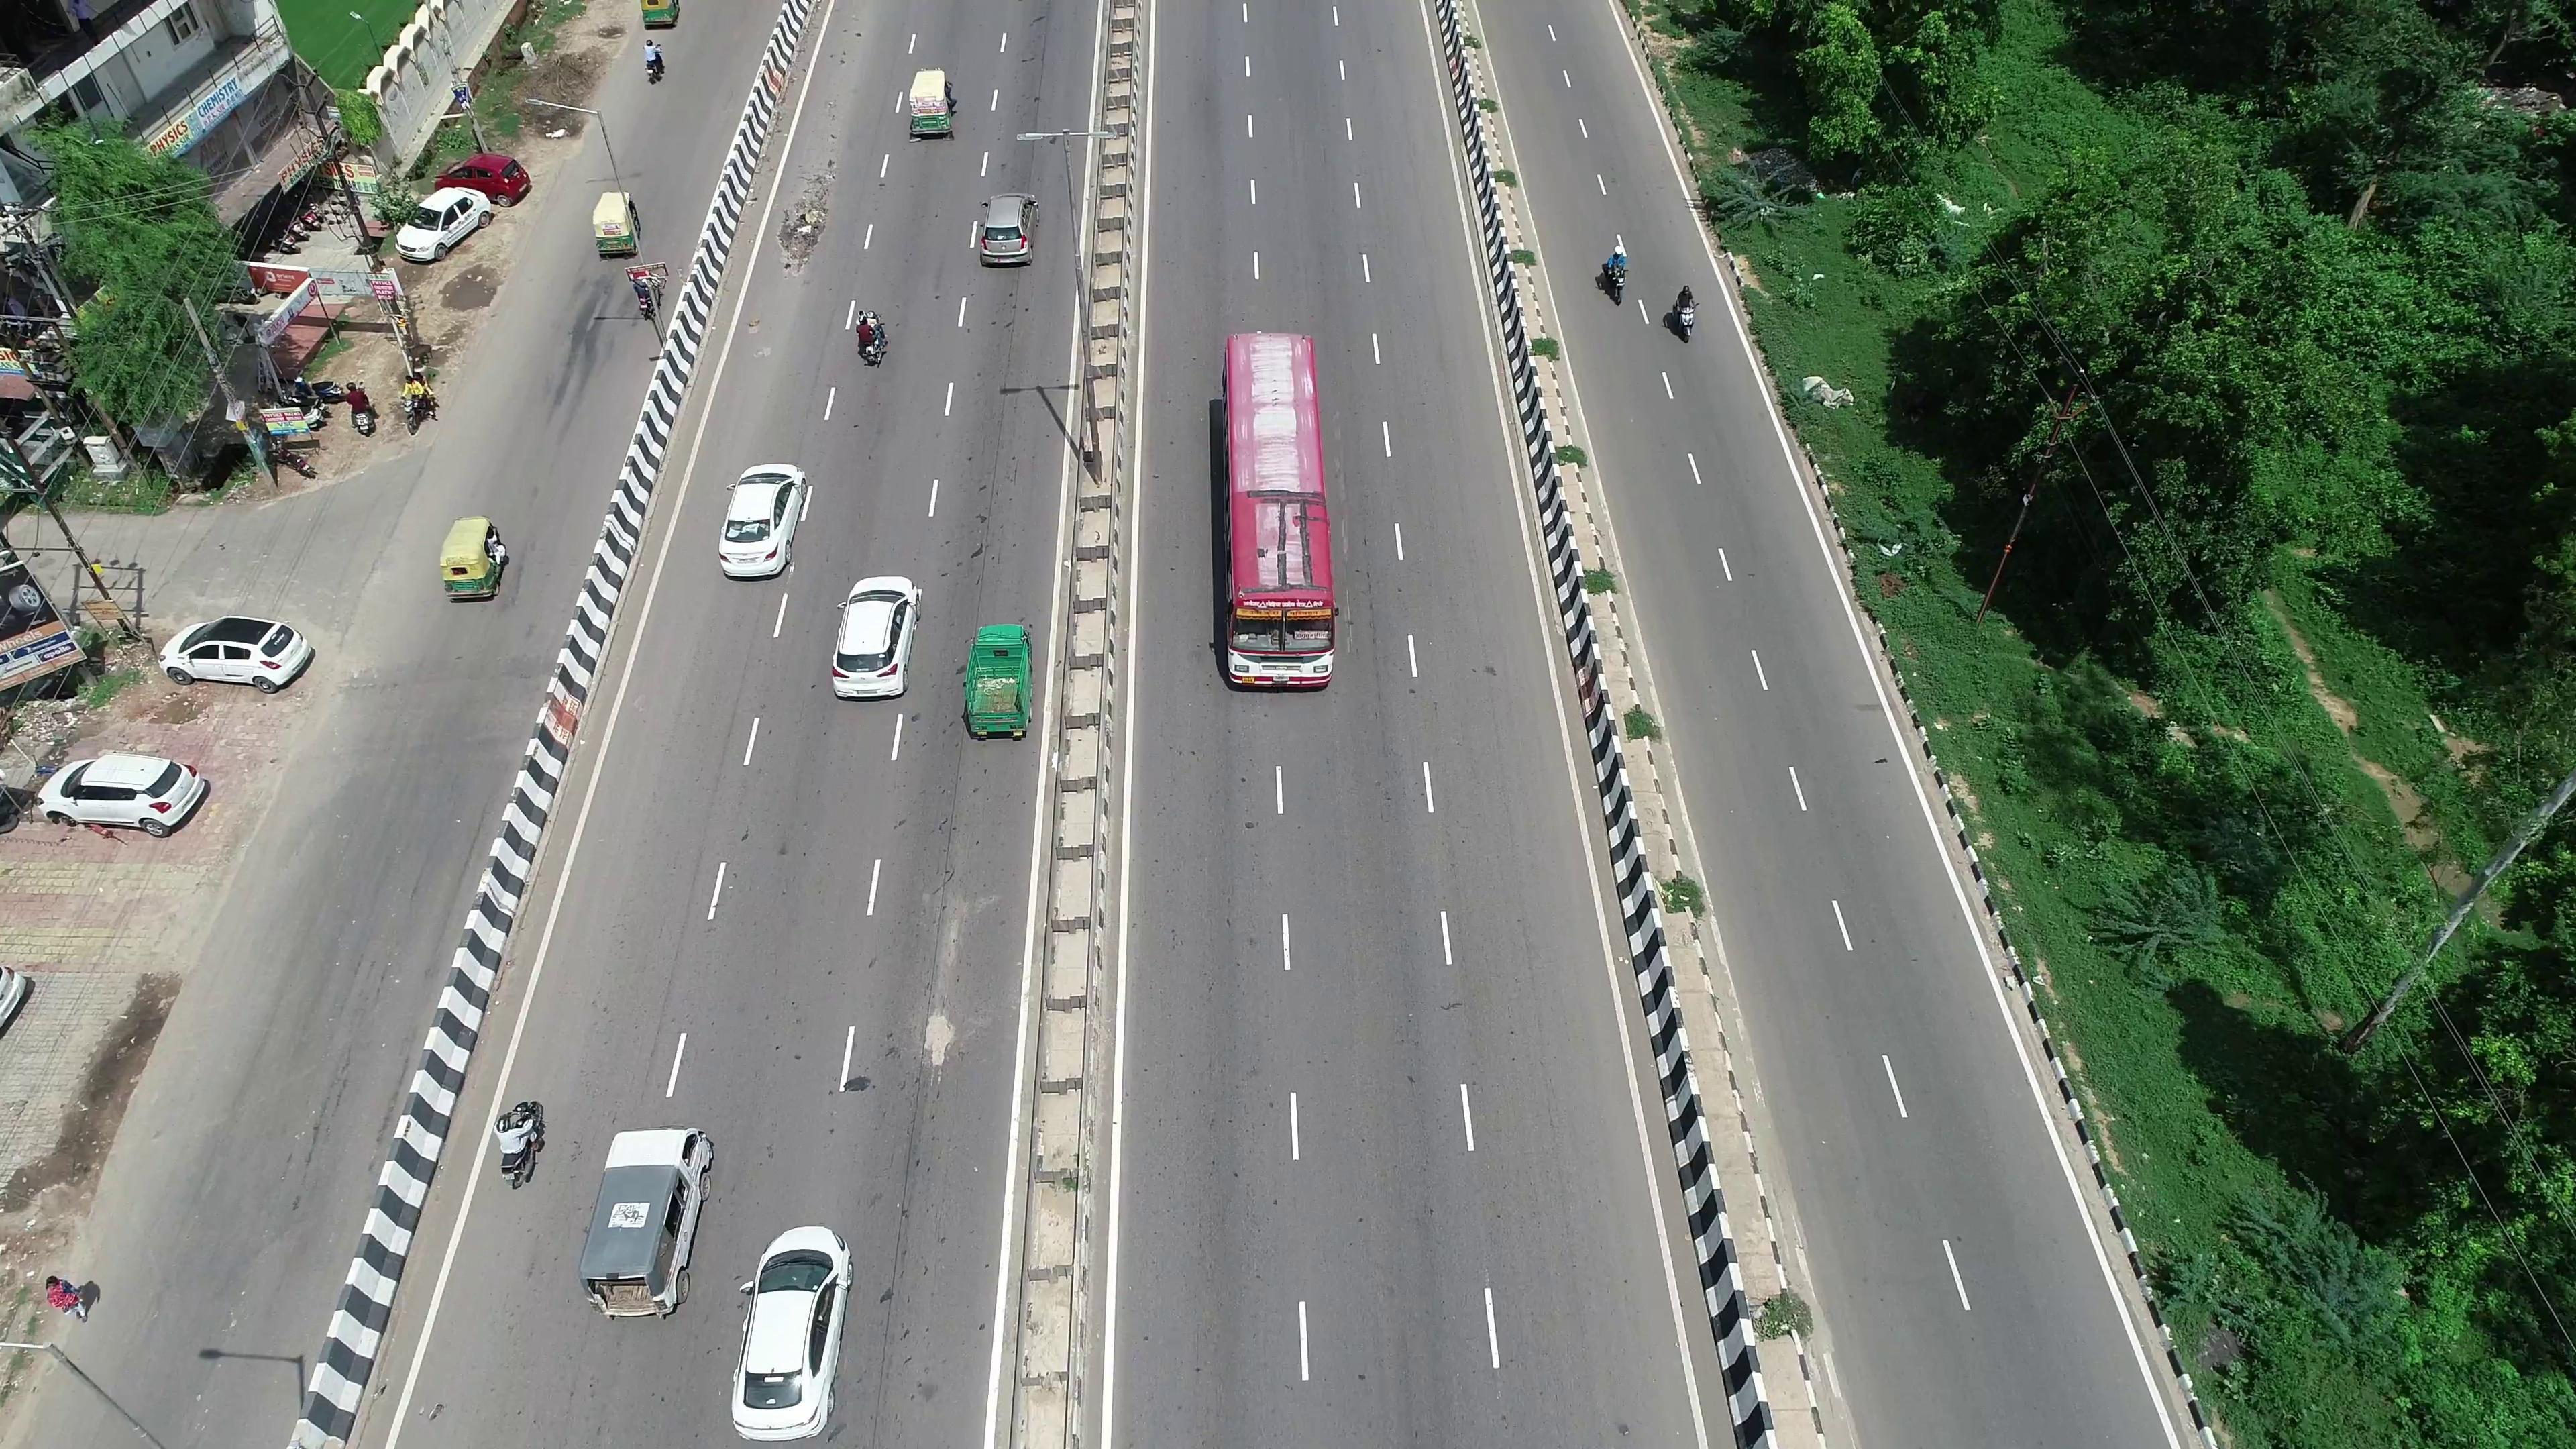Potholes: (886, 971, 964, 1090)
